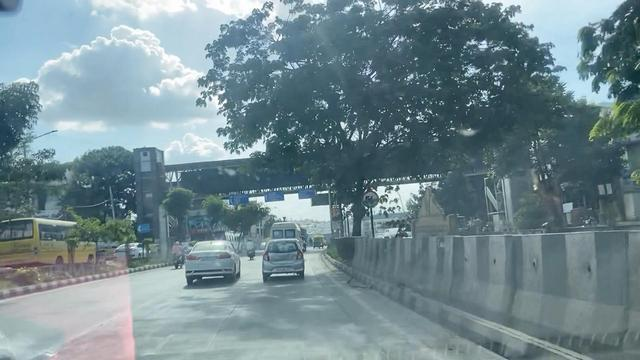LMV: (187, 238, 235, 283), (262, 238, 302, 277)
